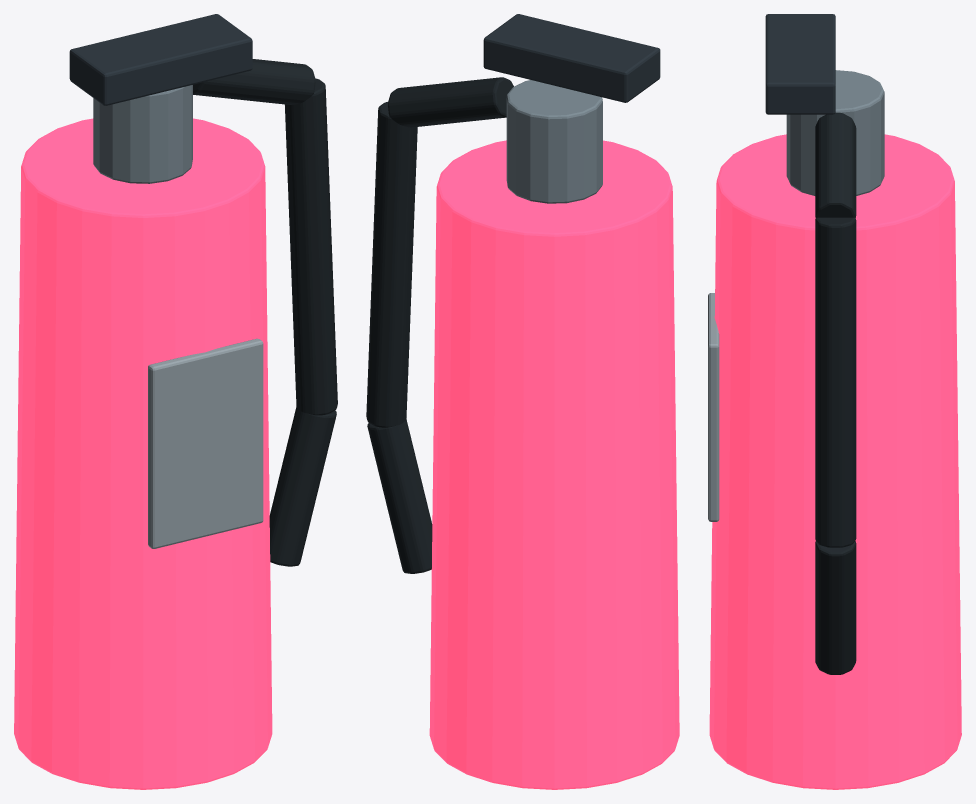
File: SM_Lab_FireBottle.fbx
The picture shows the model from 3 angles, left to right: view 1: azimuth 30°, elevation 25°; view 2: azimuth 150°, elevation 25°; view 3: azimuth 270°, elevation 25°; orthographic projection. The views are drawn at different scales.
Visible parts, largest first — view 1: SM_Lab_FireBottle; view 2: SM_Lab_FireBottle; view 3: SM_Lab_FireBottle.
Boxes of the visible parts, x1,y1,x2,y2 form: SM_Lab_FireBottle: (14, 14, 337, 789); SM_Lab_FireBottle: (366, 14, 679, 789); SM_Lab_FireBottle: (708, 14, 961, 789).
Bounding box in the file's own units: 24.42 × 18.1 × 54.25.
